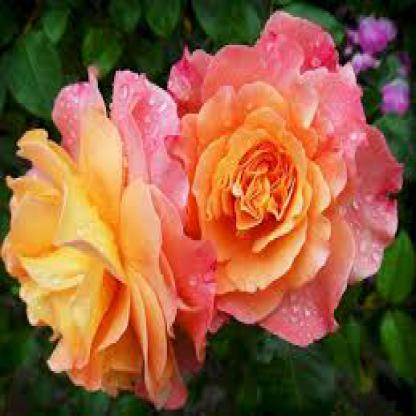Rose-Mawar: (3, 12, 403, 400)
